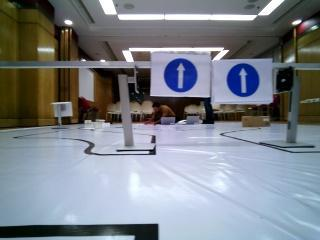straight: (151, 51, 209, 98), (213, 60, 268, 102)
